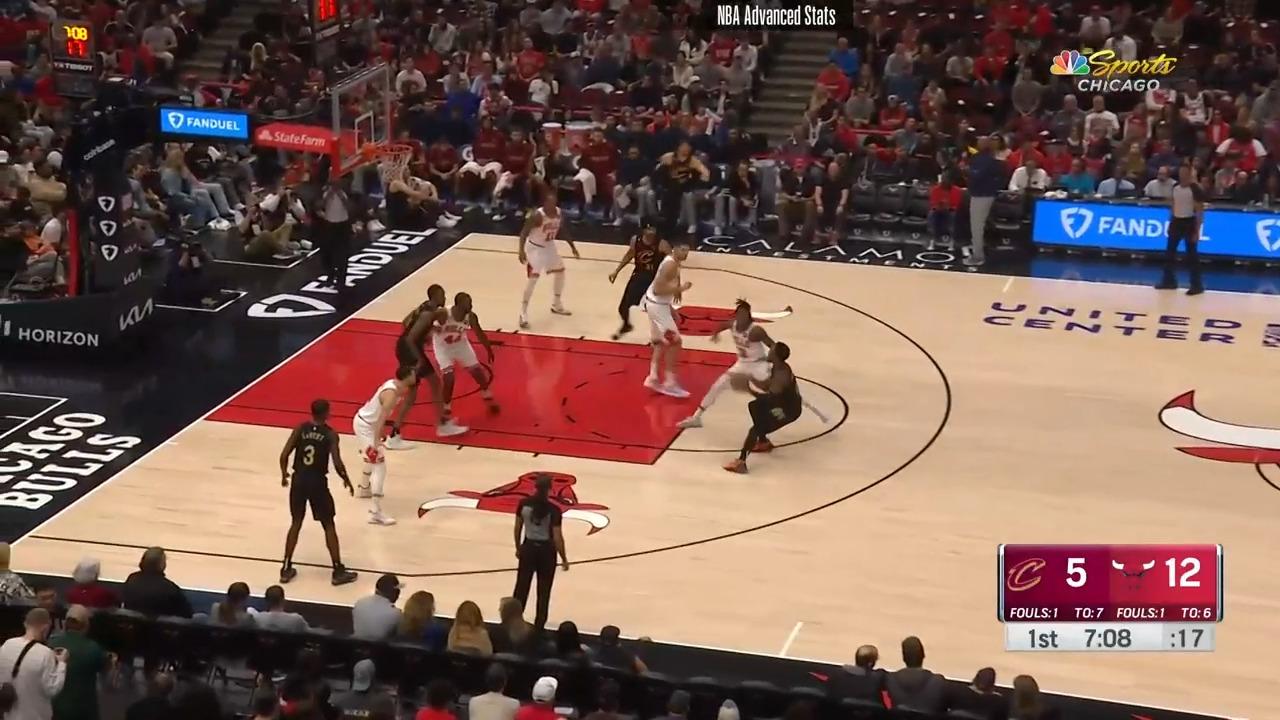net: (357, 135, 414, 187)
player: (272, 392, 357, 587), (387, 282, 470, 456), (348, 360, 419, 532), (731, 337, 812, 482), (438, 290, 509, 435), (636, 243, 705, 385), (517, 186, 581, 327), (606, 223, 674, 337), (646, 140, 710, 252), (707, 295, 774, 398)
referee: (491, 466, 582, 631), (1156, 166, 1211, 302), (310, 173, 358, 299)
